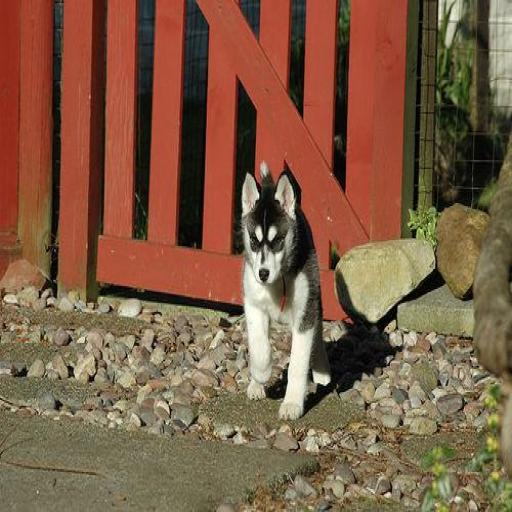dog_face: (239, 175, 299, 279)
